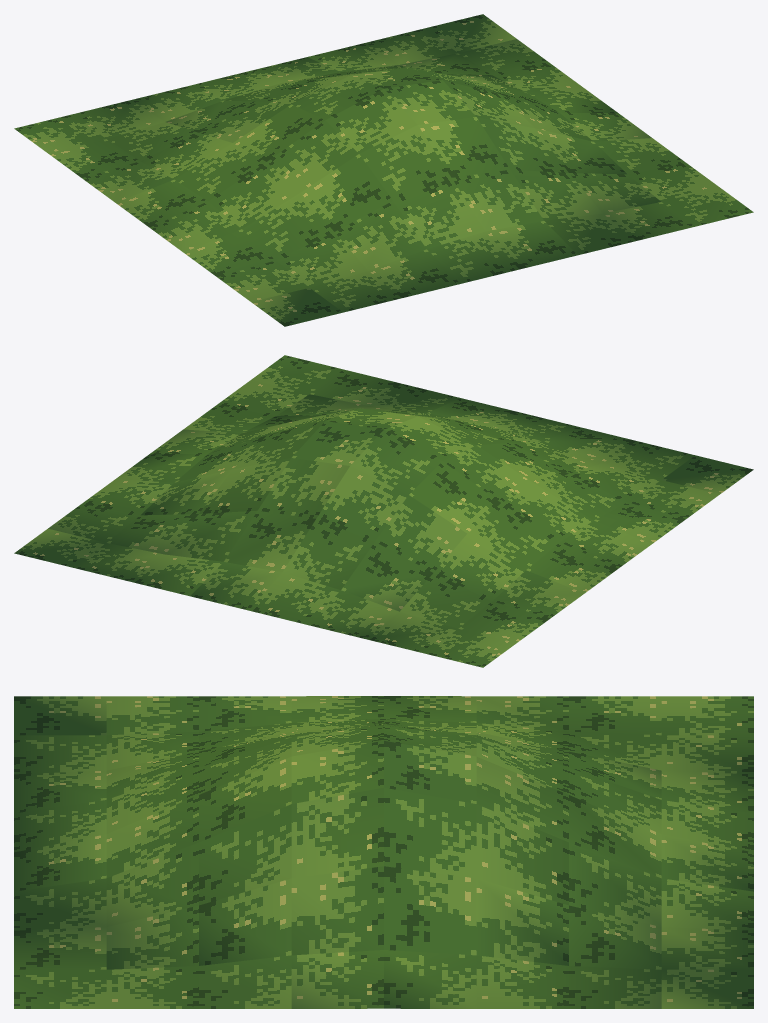
Rendered from mter.hill__low.glb.
3 renders of one model, top to bottom at view 1: azimuth 30°, elevation 25°; view 2: azimuth 150°, elevation 25°; view 3: azimuth 270°, elevation 25°, orthographic. The views are drawn at different scales.
Parts seen in each view (by area): view 1: kit_shell_hill; view 2: kit_shell_hill; view 3: kit_shell_hill.
Part boxes in pixels (x1,y1,x2,y2): kit_shell_hill: (14,14,753,326); kit_shell_hill: (14,355,753,667); kit_shell_hill: (14,696,753,1008).
Bounding box in the file's own units: 12 × 2 × 12.
1 material, 1 textured.
